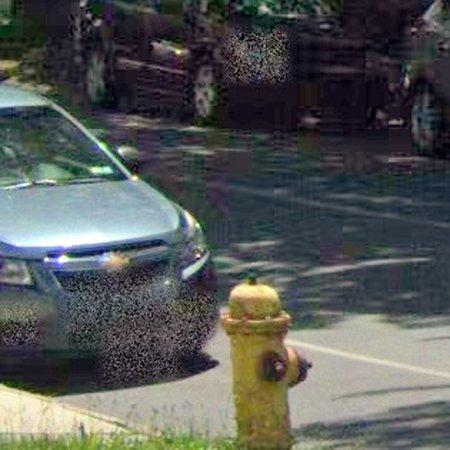a fire hydrant: (222, 281, 312, 450)
